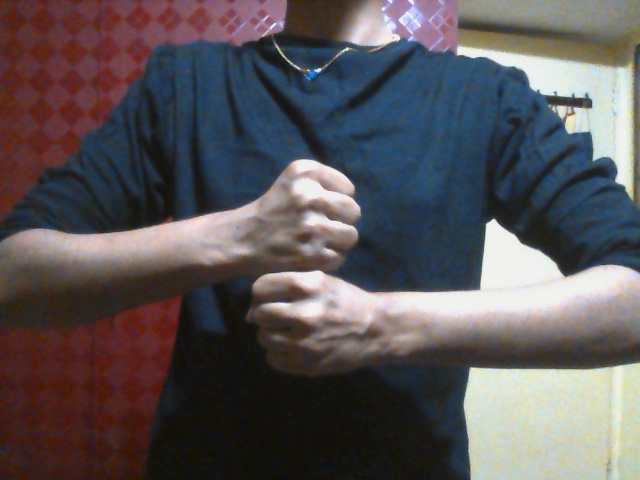G: (246, 158, 373, 378)
